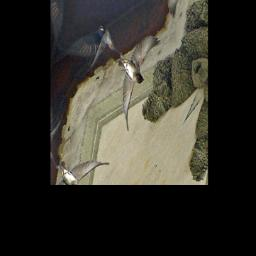Swallow: (95, 13, 173, 134)
